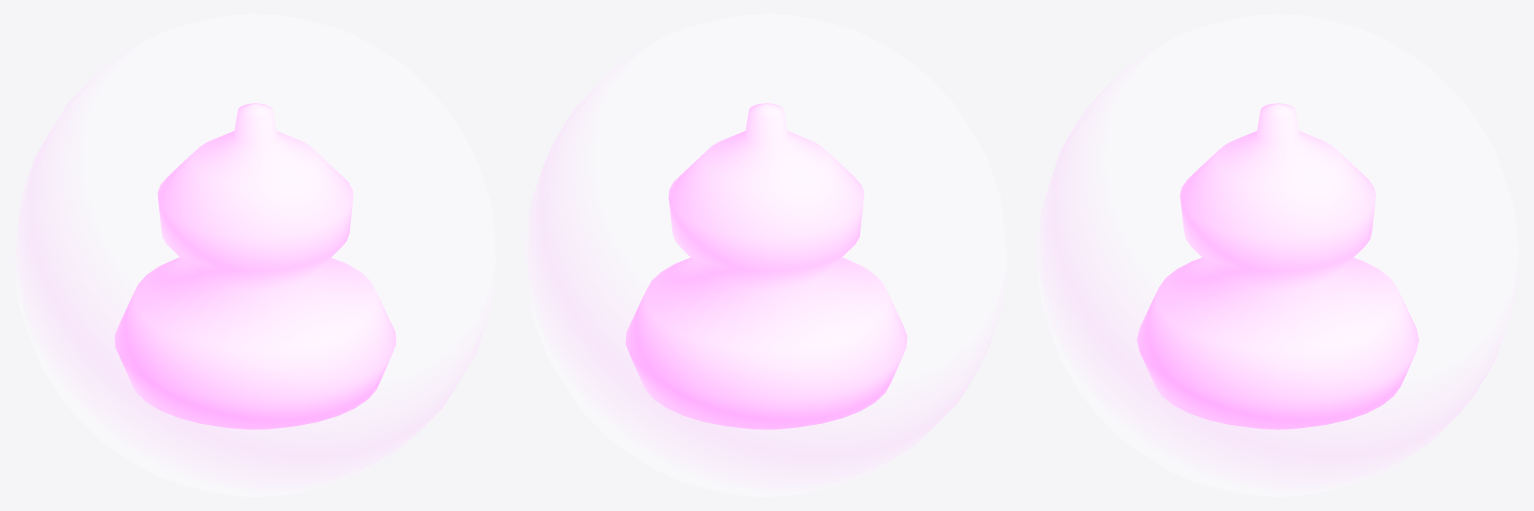
Rendered from Orb_07_紫红灵珠.glb.
The picture shows the model from 3 angles, left to right: view 1: azimuth 30°, elevation 25°; view 2: azimuth 150°, elevation 25°; view 3: azimuth 270°, elevation 25°; orthographic projection.
Parts seen in each view (by area): view 1: Sphere, SpiritGourd; view 2: Sphere, SpiritGourd; view 3: Sphere, SpiritGourd.
Part boxes in pixels (left/top/right/bottom): Sphere: left=14, top=14, right=496, bottom=496; SpiritGourd: left=114, top=103, right=396, bottom=429; Sphere: left=525, top=14, right=1007, bottom=496; SpiritGourd: left=625, top=103, right=907, bottom=429; Sphere: left=1036, top=14, right=1519, bottom=496; SpiritGourd: left=1137, top=103, right=1418, bottom=429.
Bounding box in the file's own units: 0.96 × 0.96 × 0.96.
